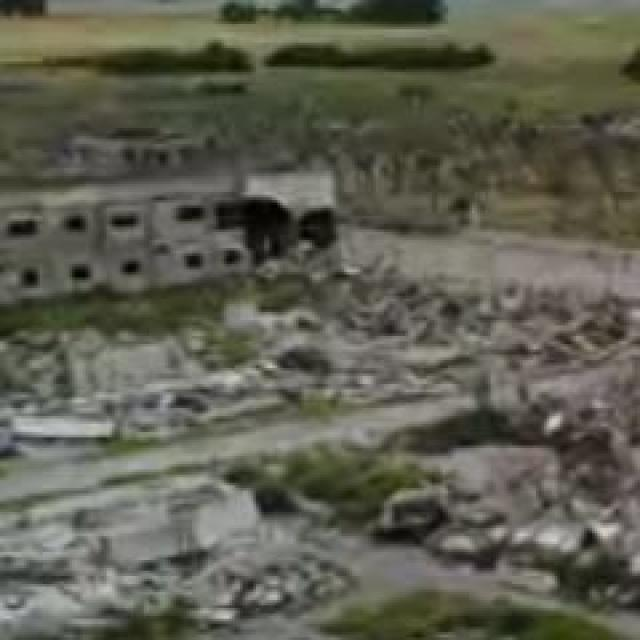collapsed_building: (0, 173, 341, 295)
